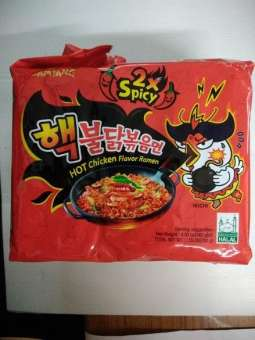Snack: (7, 39, 255, 269)
